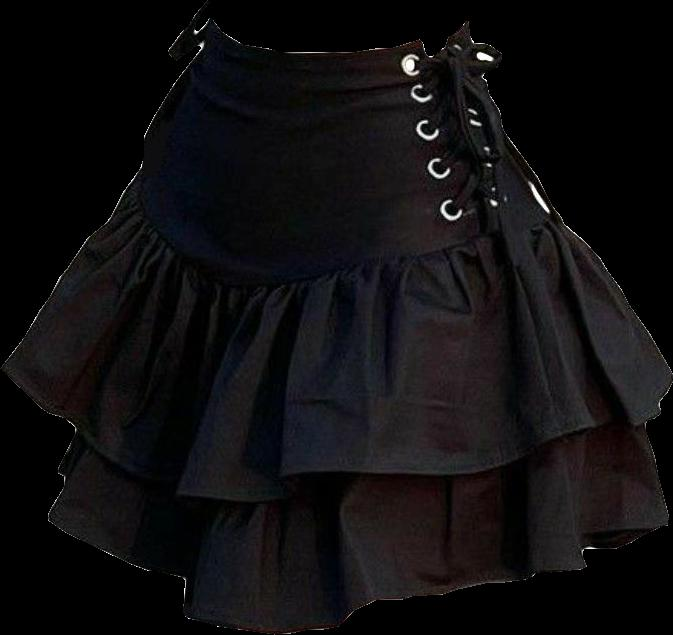Hemline: (46, 467, 672, 634), (2, 359, 672, 503)
Waistline: (133, 170, 553, 287), (210, 16, 466, 56)
